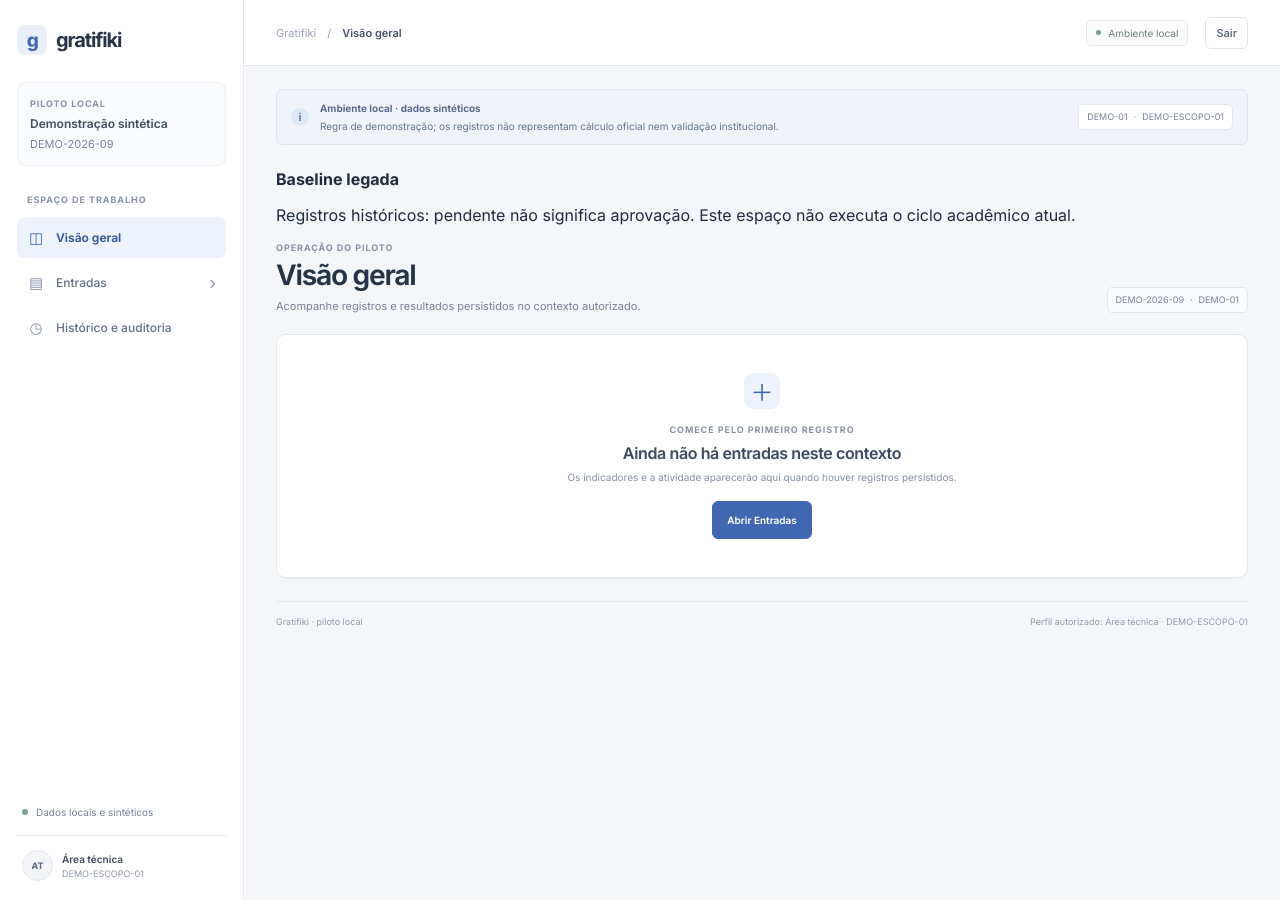
Test: SR1 entry form in the authenticated application › restores the local session and shows the synthetic entry form for area técnica
Expected: the heading "Visão geral" is shown, [276, 258, 415, 292]
Click the link "Entradas ›" at (81, 283), box [27, 273, 216, 293]
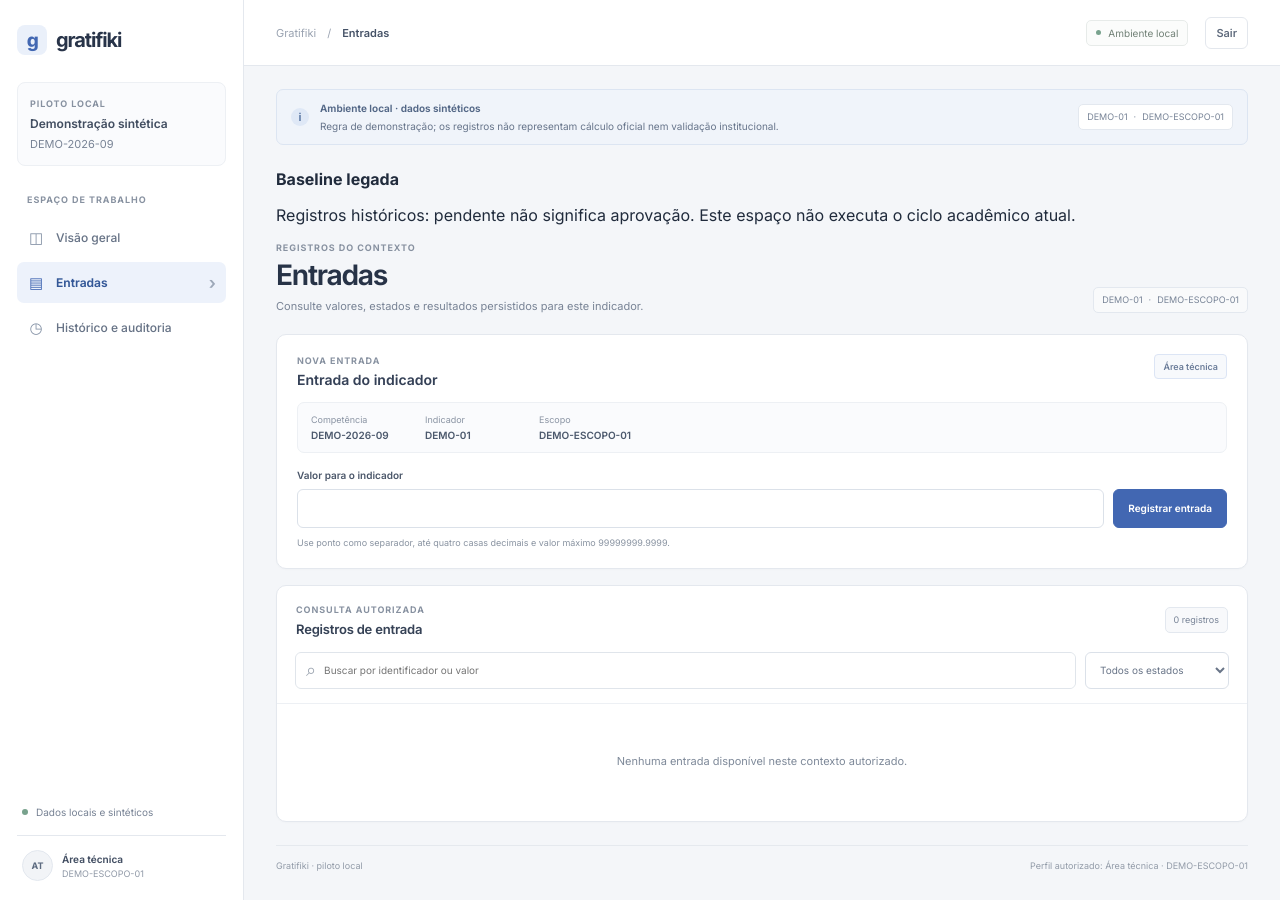
Expected: the heading "Entradas" is shown, [276, 258, 387, 292]
Now the field labelled "Valor para o indicador" is shown, box [297, 489, 1104, 528]
Now the text "DEMO-01" is shown, box [425, 429, 471, 441]
